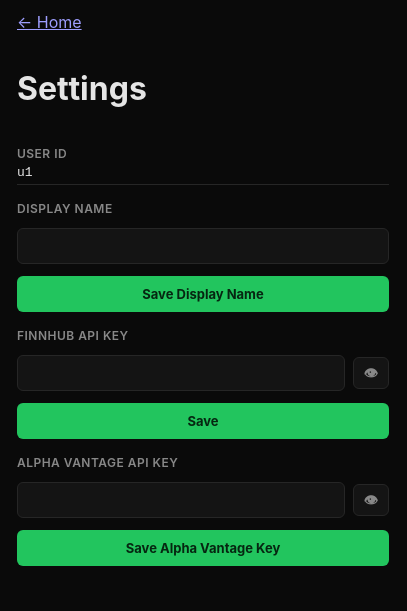
Test: SettingsPage › shows an inline error when saveFinnhubKey rejects
This screenshot has width=407, height=611.
Type "new-key" into the password field labelled "Finnhub API Key" at {"x": 181, "y": 373}, box 17,355 -> 345,391
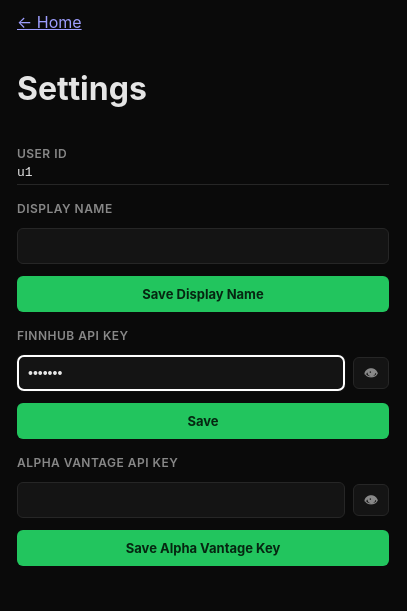
Click the button "Save" at {"x": 203, "y": 421}, box 17,403 -> 389,439
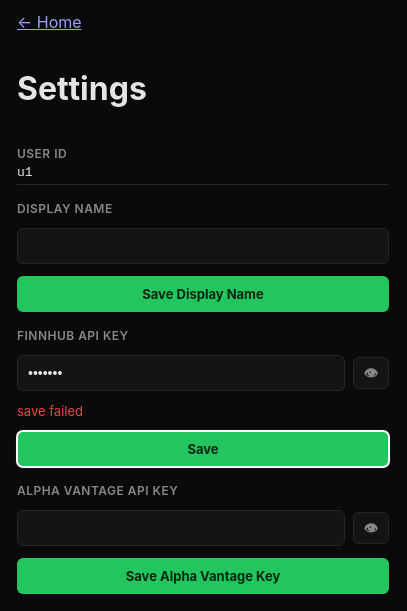
Expected: the text "save failed" is shown, 17,403 -> 83,419
